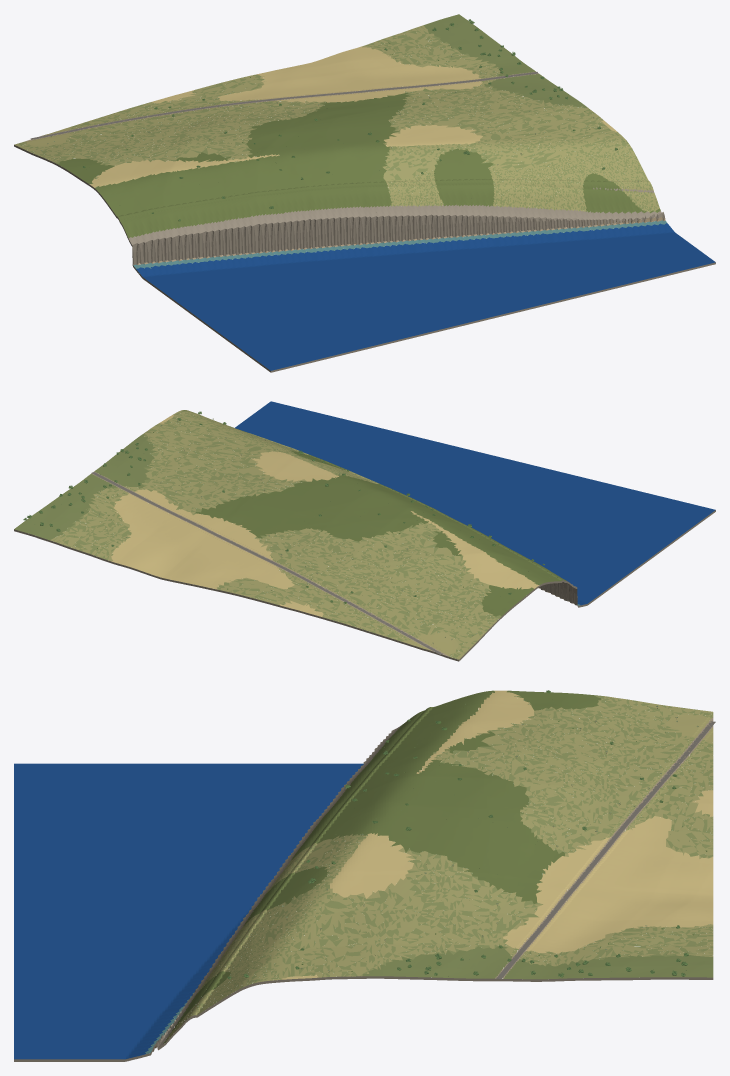
The model's file is parca_+1_-9-yakin.glb.
3 views of the same model, one above another, from view 1: azimuth 30°, elevation 25°; view 2: azimuth 150°, elevation 25°; view 3: azimuth 270°, elevation 25° (orthographic). The views are drawn at different scales.
Parts seen in each view (by area): view 1: parca_+1_-9_arazi, parca_+1_-9_yollar, parca_+1_-9_bitkiler; view 2: parca_+1_-9_arazi, parca_+1_-9_yollar, parca_+1_-9_bitkiler; view 3: parca_+1_-9_arazi, parca_+1_-9_yollar, parca_+1_-9_bitkiler.
Part boxes in pixels (<box>): parca_+1_-9_arazi: <box>14,14,715,372</box>; parca_+1_-9_yollar: <box>30,72,538,139</box>; parca_+1_-9_bitkiler: <box>41,19,638,221</box>; parca_+1_-9_arazi: <box>14,401,715,661</box>; parca_+1_-9_yollar: <box>91,472,442,654</box>; parca_+1_-9_bitkiler: <box>23,410,544,643</box>; parca_+1_-9_arazi: <box>14,690,713,1061</box>; parca_+1_-9_yollar: <box>496,721,715,979</box>; parca_+1_-9_bitkiler: <box>180,690,712,1018</box>.
Bounding box in the file's own units: 1003 × 164 × 1004.
